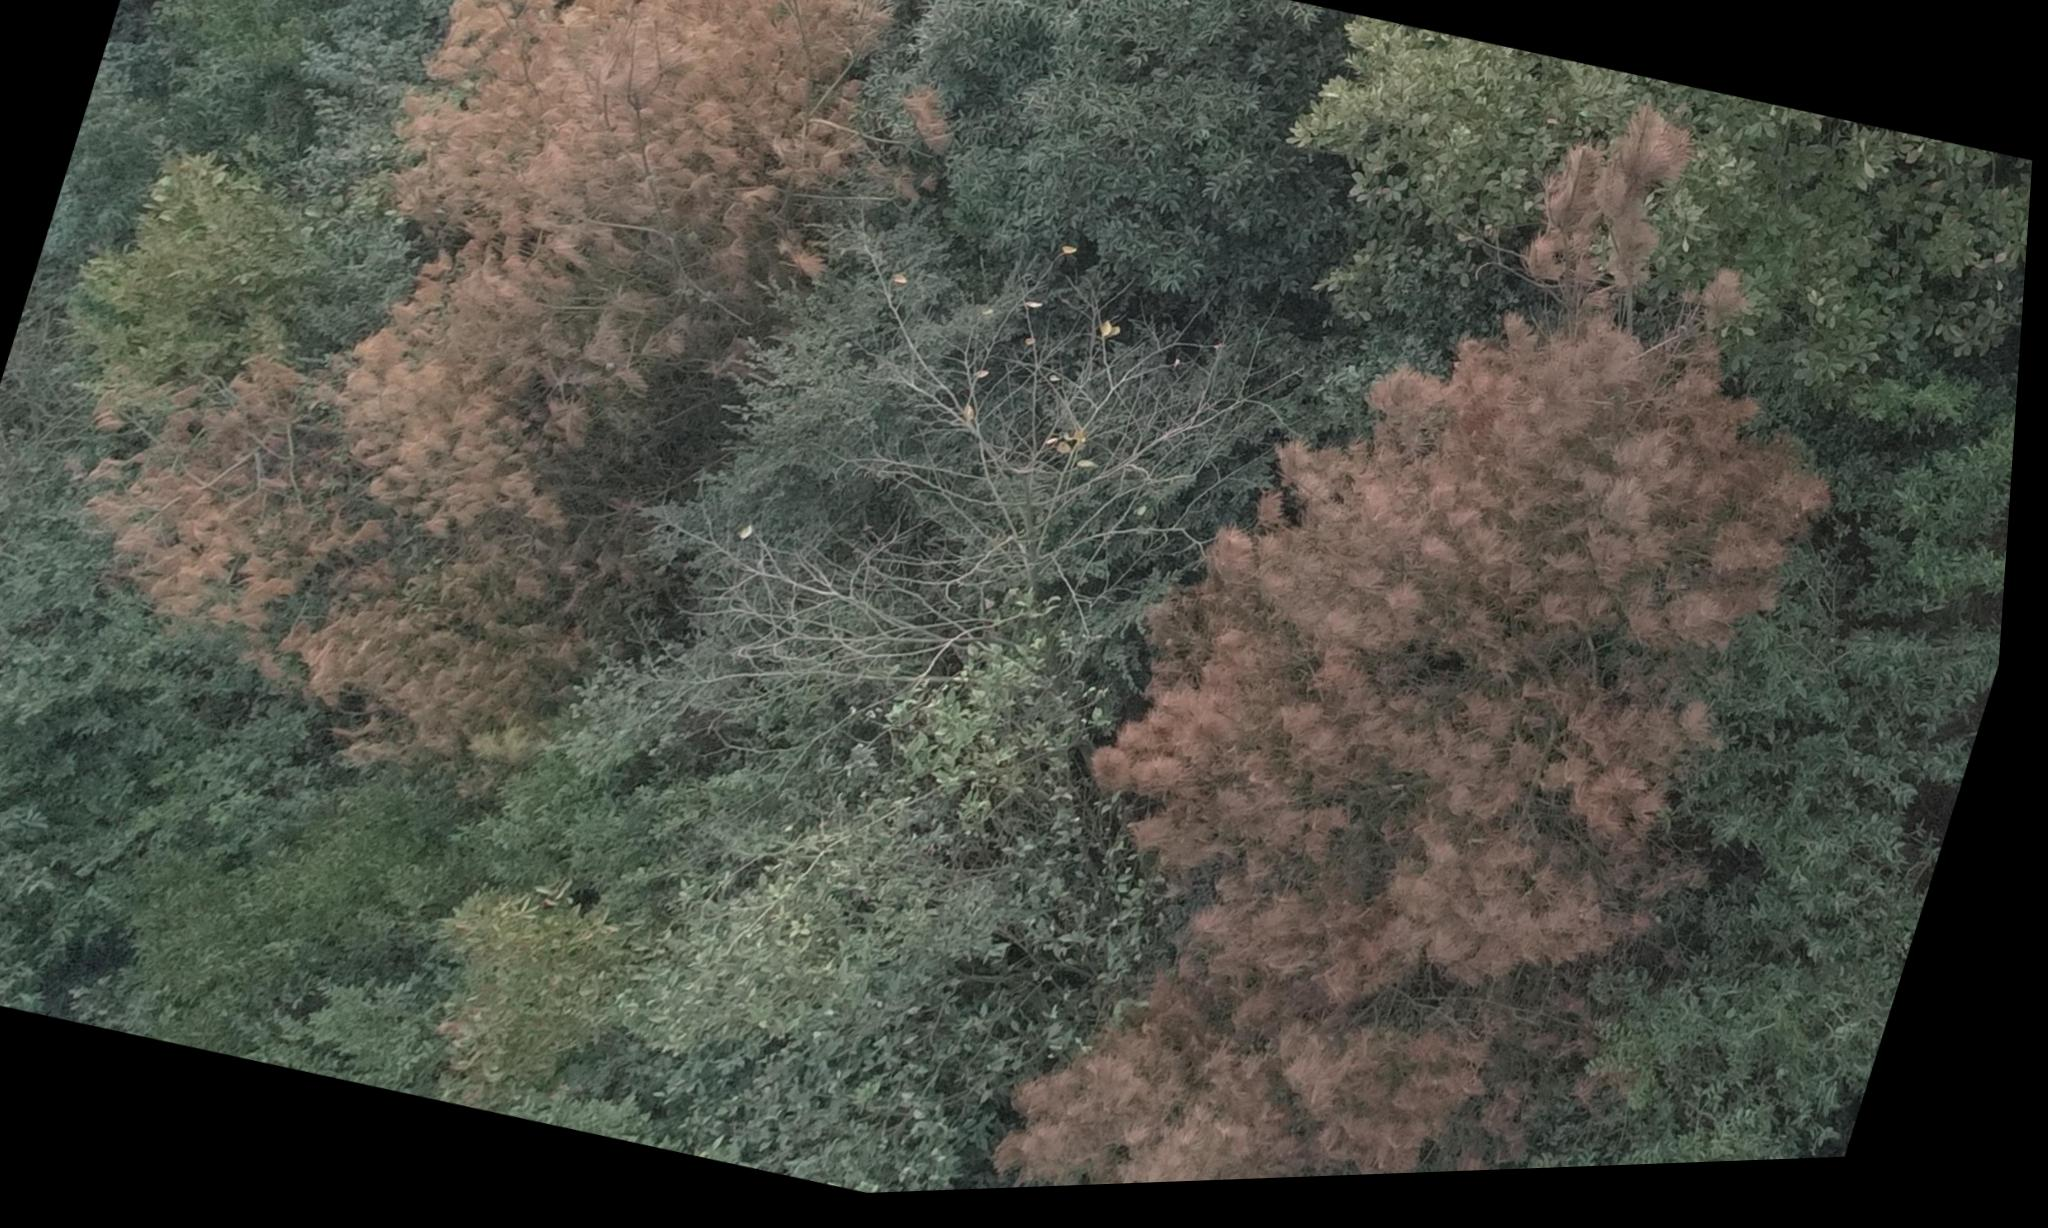dead: (706, 235, 1241, 807)
heavy: (1004, 47, 1950, 1197), (80, 0, 896, 795)
